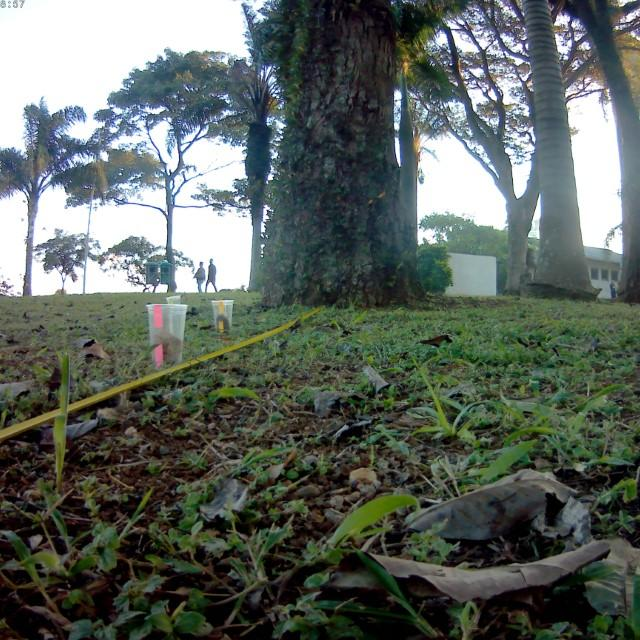arvore: (245, 0, 434, 313)
